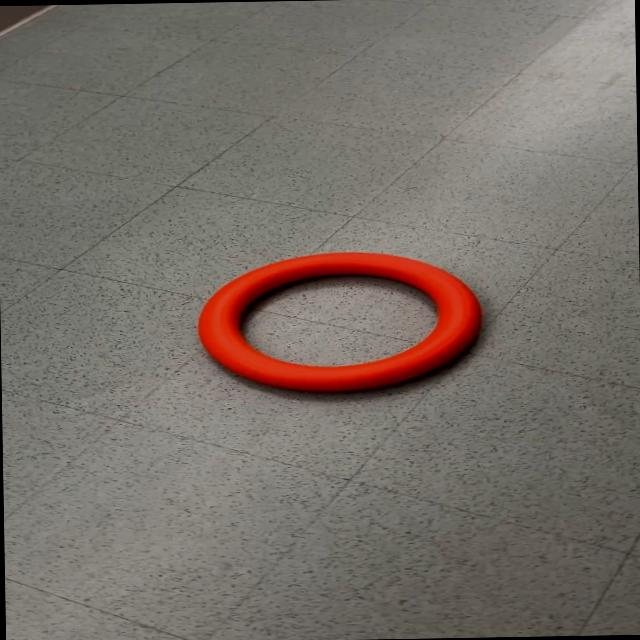note: (194, 248, 484, 395)
